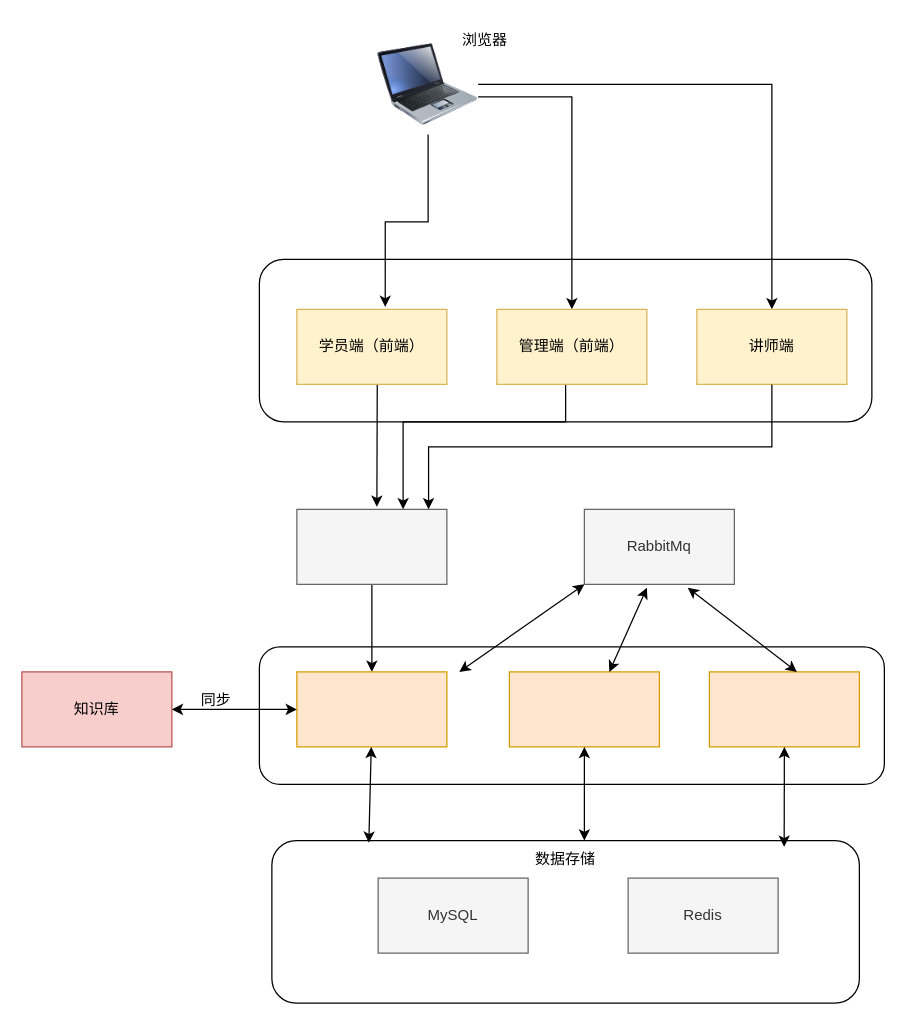
The diagram is 906 pixels wide and 1025 high, and some of its shapes have lost their labels. Here are the shapes that lost their labels. From the top down, the box of each, then its label:
(296, 508, 447, 584): nginx
(296, 671, 447, 747): 培训后端服务
(508, 671, 659, 747): 音视频切片服务
(708, 671, 859, 747): 文件切片服务
